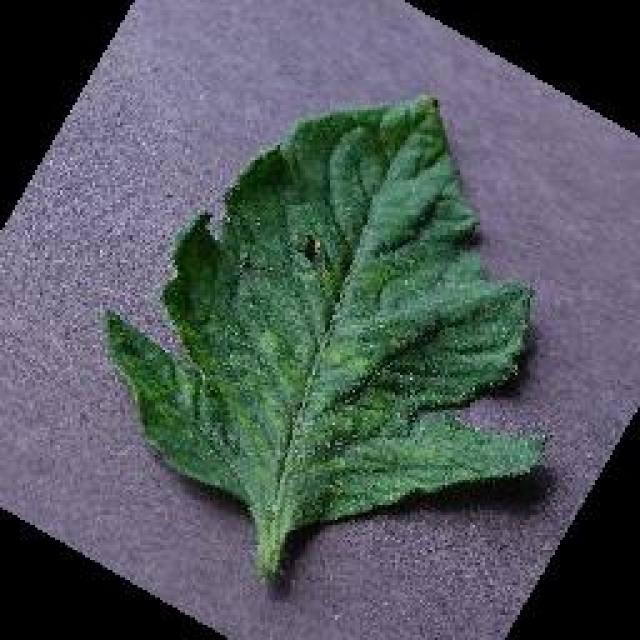Tomato___Tomato_mosaic_virus: (108, 98, 542, 578)
